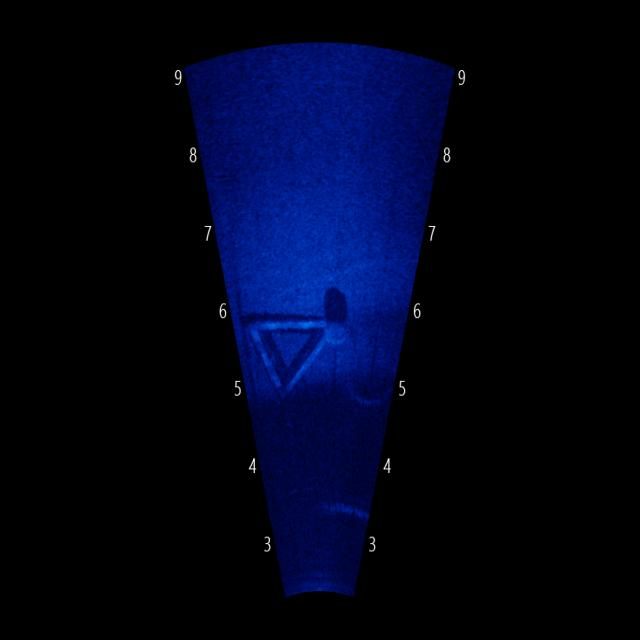triangle: (244, 296, 356, 428)
